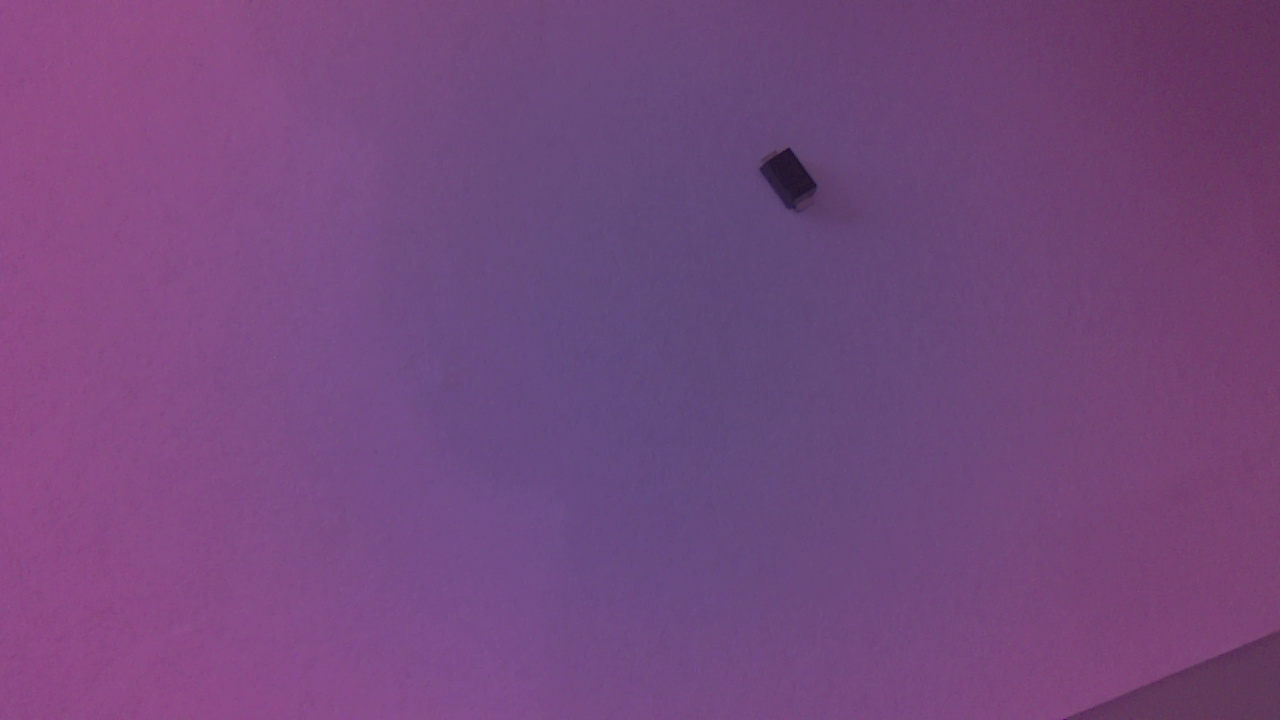Diode: (756, 148, 825, 227)
